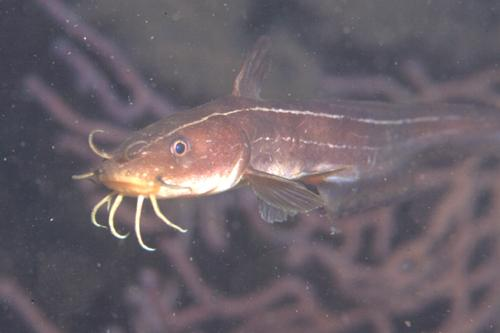gonzui: (69, 39, 500, 236)
